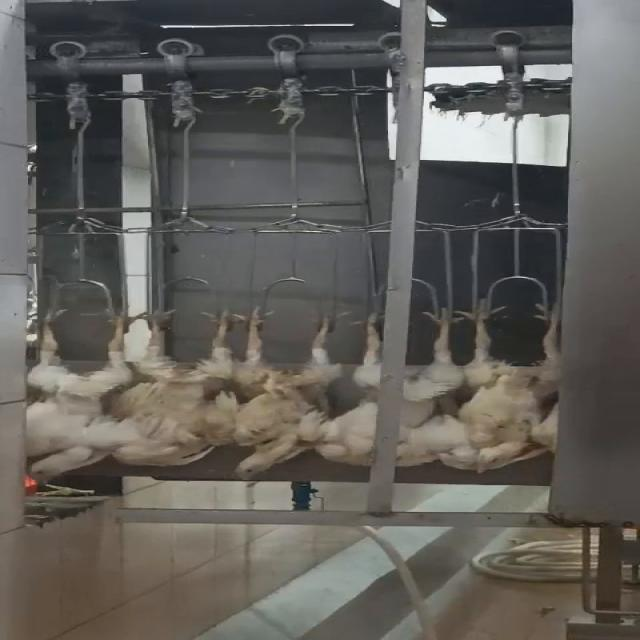chicken: (217, 296, 357, 482), (318, 300, 469, 468), (18, 306, 149, 485), (448, 290, 571, 478), (124, 304, 234, 463)
